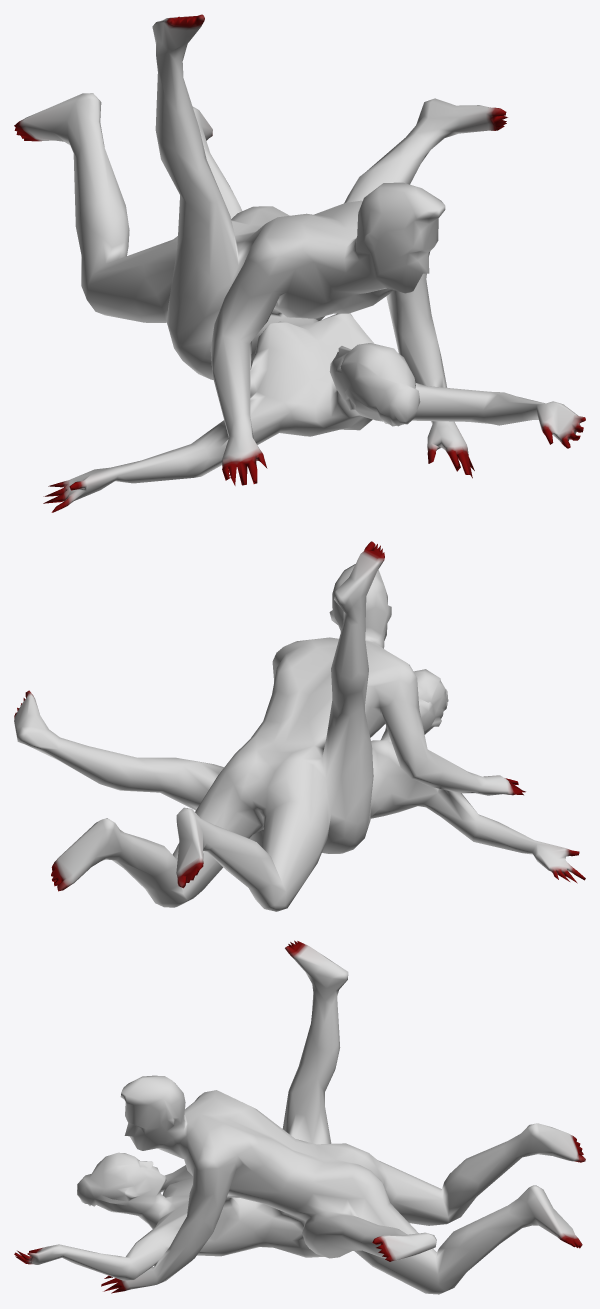
Rendered from position6_low.fbx.
3 views of the same model, one above another, from view 1: azimuth 30°, elevation 25°; view 2: azimuth 150°, elevation 25°; view 3: azimuth 270°, elevation 25° (orthographic). The views are drawn at different scales.
Visible parts, largest first — view 1: lying3_male; view 2: lying3_male; view 3: lying3_male.
Boxes of the visible parts, left/top/right/bottom form: lying3_male: left=14, top=14, right=585, bottom=512; lying3_male: left=14, top=541, right=585, bottom=911; lying3_male: left=14, top=940, right=585, bottom=1294.
Size of the model in its own units: 0.6664 by 0.451 by 0.7888.
